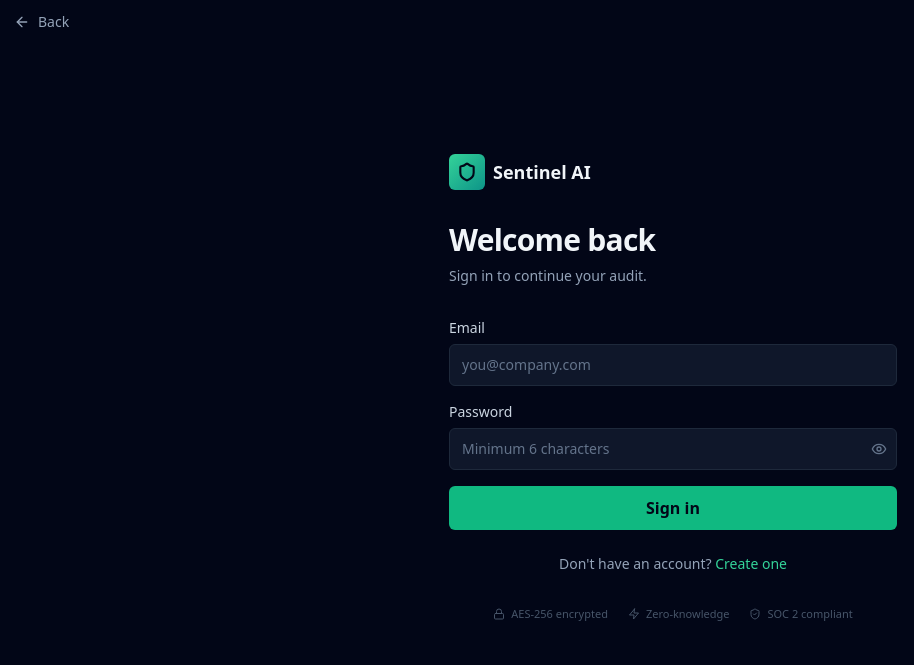
Scenario: Auth — Sign In mode (default) › shows error message on auth failure
Type "bad@test.com" into the field with placeholder "you@company.com" at (673, 365), box [449,344,897,386]
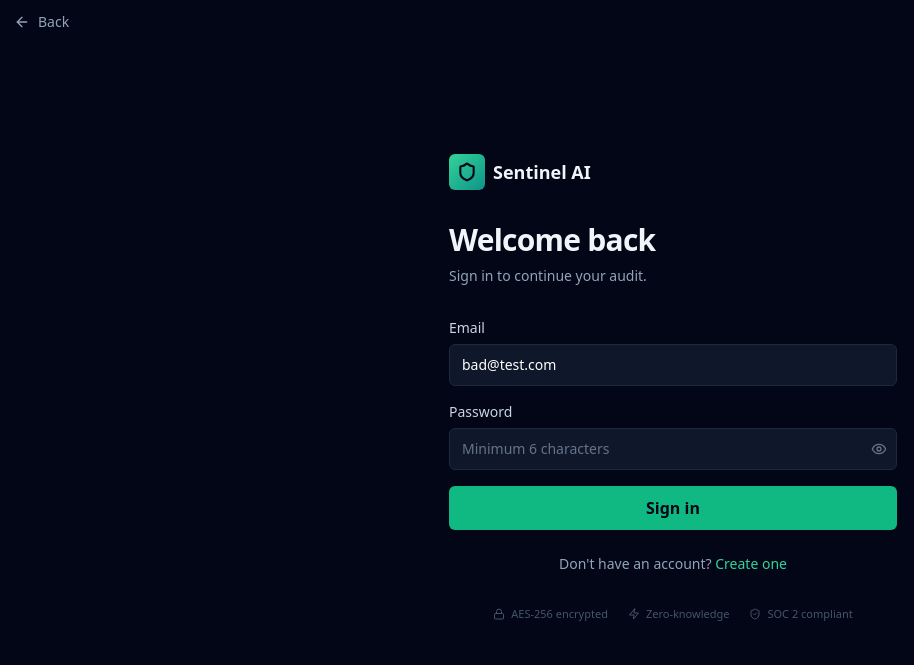
Type "wrongpass" into the password field with placeholder "Minimum 6 characters" at (673, 449), box [449,428,897,470]
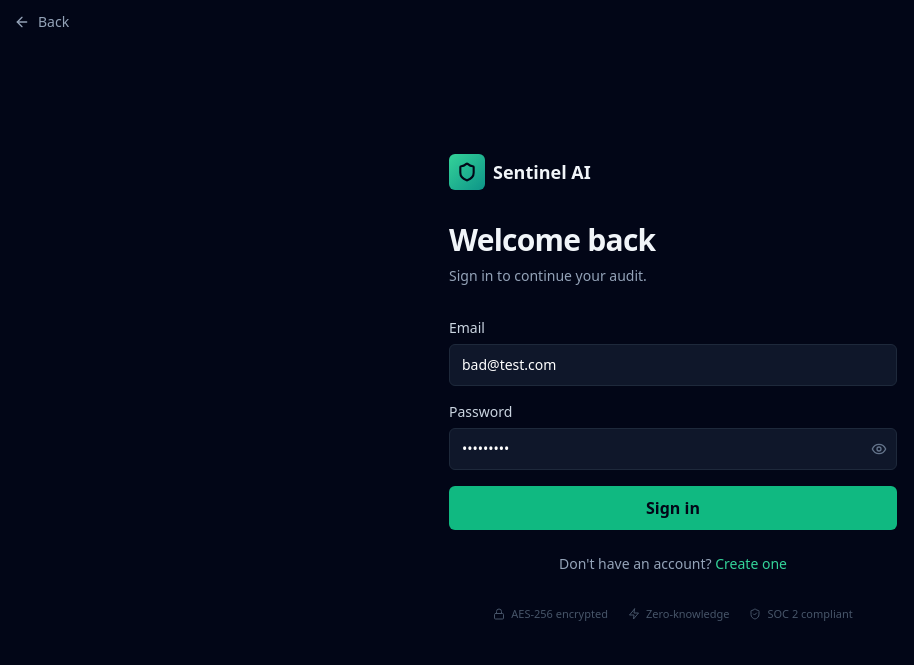
Click the button "Sign in" at (673, 508), box [449,486,897,530]
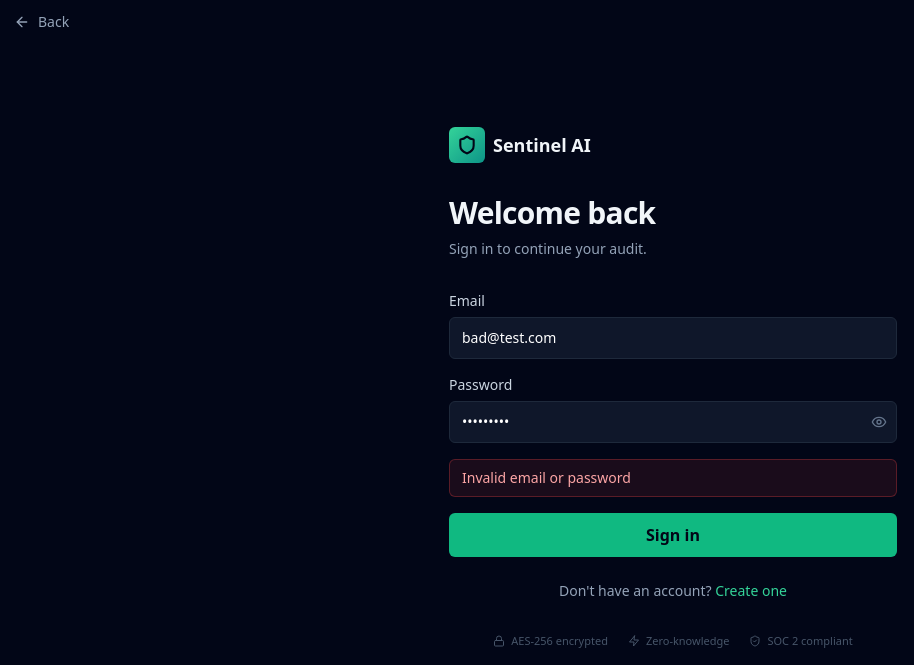
Expected: the text "Invalid email or password" is shown, [449,459,897,497]
